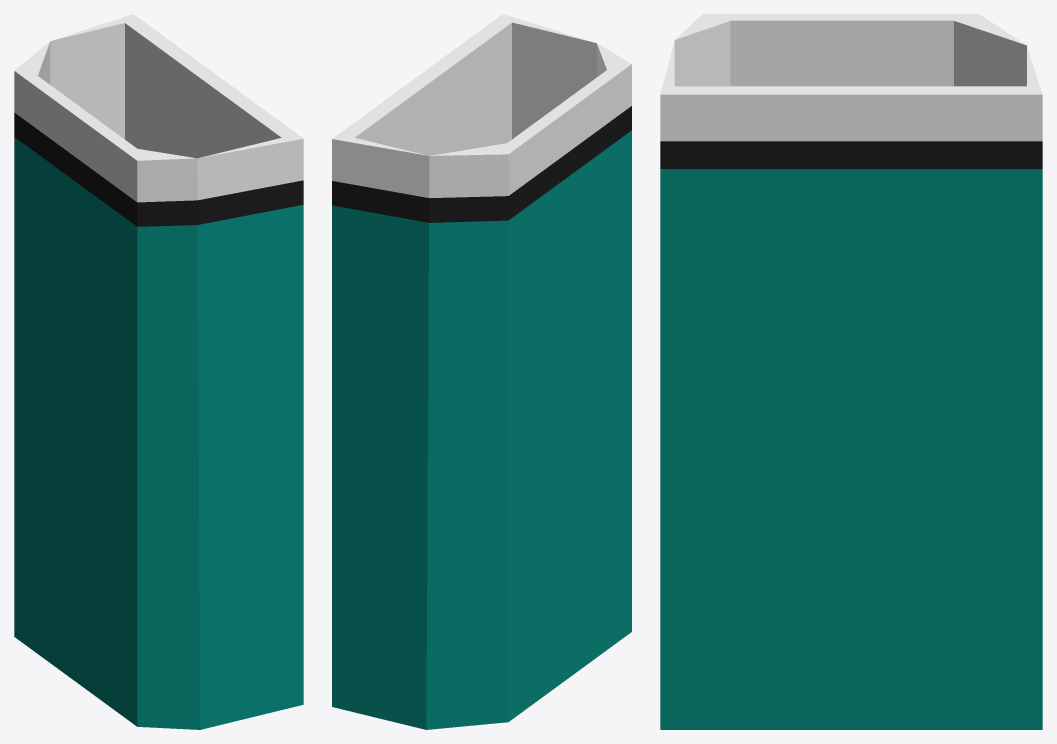
Rendered from SingleBin-transformed.glb.
3 views of the same model, side by side, from view 1: azimuth 30°, elevation 25°; view 2: azimuth 150°, elevation 25°; view 3: azimuth 270°, elevation 25° (orthographic). The views are drawn at different scales.
Parts seen in each view (by area): view 1: group1303551656; view 2: group1303551656; view 3: group1303551656.
Part boxes in pixels (x1,y1,x2,y2): group1303551656: (14, 14, 303, 729); group1303551656: (332, 14, 631, 729); group1303551656: (660, 14, 1042, 729).
Bounding box in the file's own units: 0.09 × 0.33 × 0.18.
